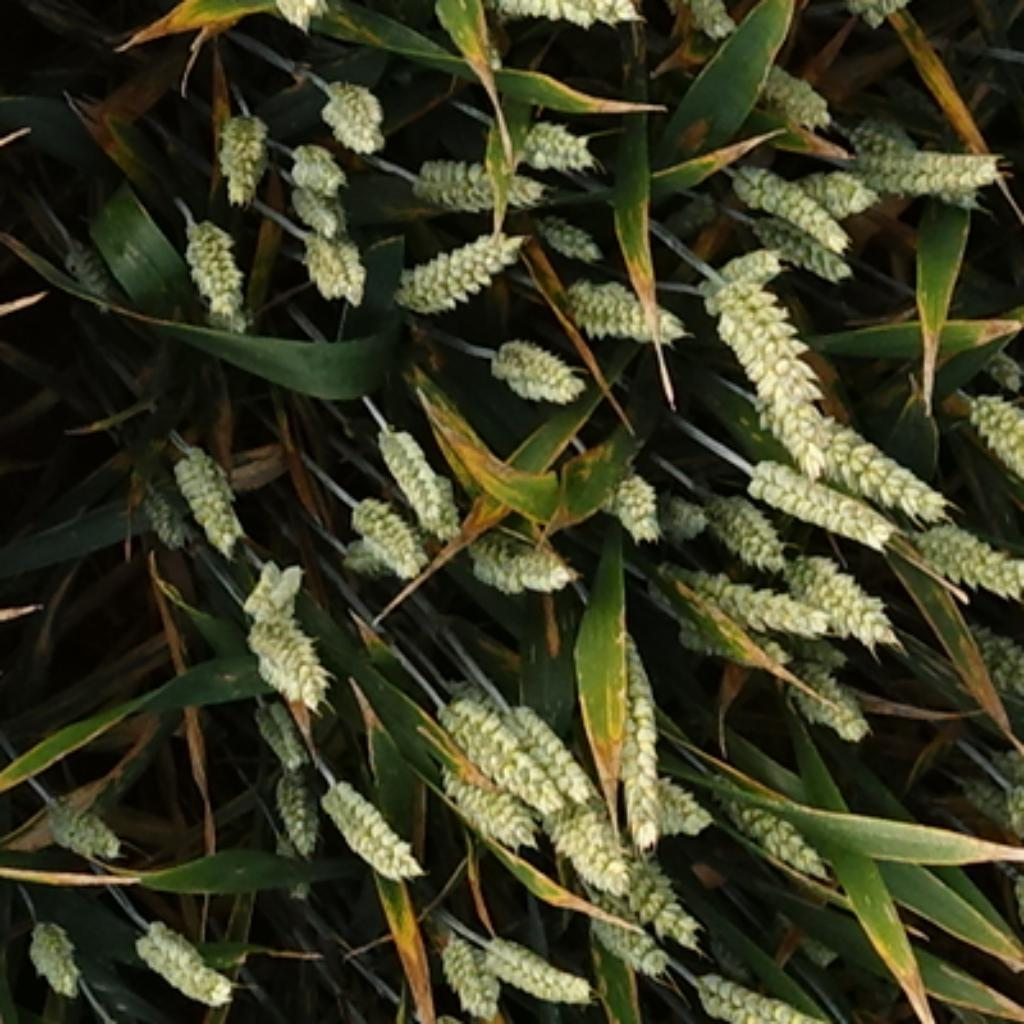0-0: (698, 281, 837, 478), (783, 384, 942, 522), (696, 760, 844, 896), (437, 691, 570, 811), (637, 560, 834, 637), (744, 455, 898, 547), (778, 550, 916, 650), (716, 156, 857, 253), (847, 112, 985, 209), (604, 634, 667, 844), (391, 215, 522, 312), (321, 777, 429, 889), (122, 908, 238, 1011), (504, 693, 604, 811), (240, 596, 337, 716), (834, 140, 1011, 204), (532, 778, 632, 888), (166, 435, 250, 560), (606, 842, 704, 949), (399, 151, 552, 217), (558, 261, 683, 340), (437, 765, 542, 855), (911, 525, 1024, 607), (691, 957, 829, 1024), (373, 417, 450, 537), (455, 535, 578, 609), (742, 207, 857, 286), (665, 609, 801, 675), (478, 921, 591, 1000), (578, 896, 673, 985), (483, 322, 586, 399), (171, 209, 245, 314), (622, 747, 711, 834), (38, 785, 135, 862), (788, 668, 885, 744), (957, 609, 1024, 711), (954, 384, 1024, 481), (698, 481, 783, 560), (350, 494, 427, 581), (744, 48, 832, 122), (281, 133, 350, 225), (294, 227, 368, 312), (207, 110, 271, 207), (240, 688, 312, 773), (58, 230, 135, 309), (266, 744, 325, 847), (591, 453, 665, 535), (788, 163, 890, 222), (441, 933, 508, 1022), (232, 558, 312, 632), (337, 532, 445, 586), (509, 102, 596, 168), (314, 80, 388, 156), (23, 913, 84, 1003), (133, 478, 194, 563), (483, 0, 647, 30), (773, 906, 847, 970), (524, 197, 601, 258), (770, 627, 860, 675), (954, 774, 1018, 841), (657, 491, 716, 552), (437, 668, 501, 724), (424, 460, 465, 542), (696, 931, 760, 980), (266, 0, 343, 40), (709, 243, 783, 284), (197, 294, 263, 337), (977, 337, 1024, 394), (660, 0, 737, 33)
